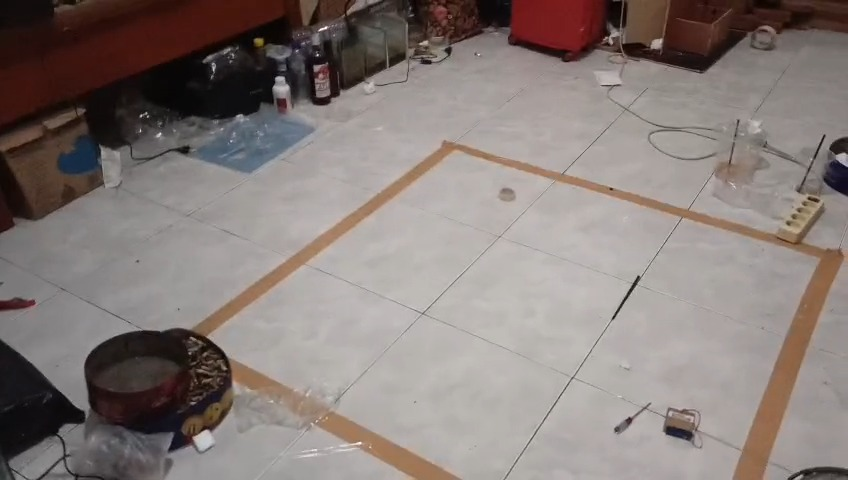floor marking: (193, 142, 844, 479), (318, 412, 457, 478), (231, 360, 308, 399)
